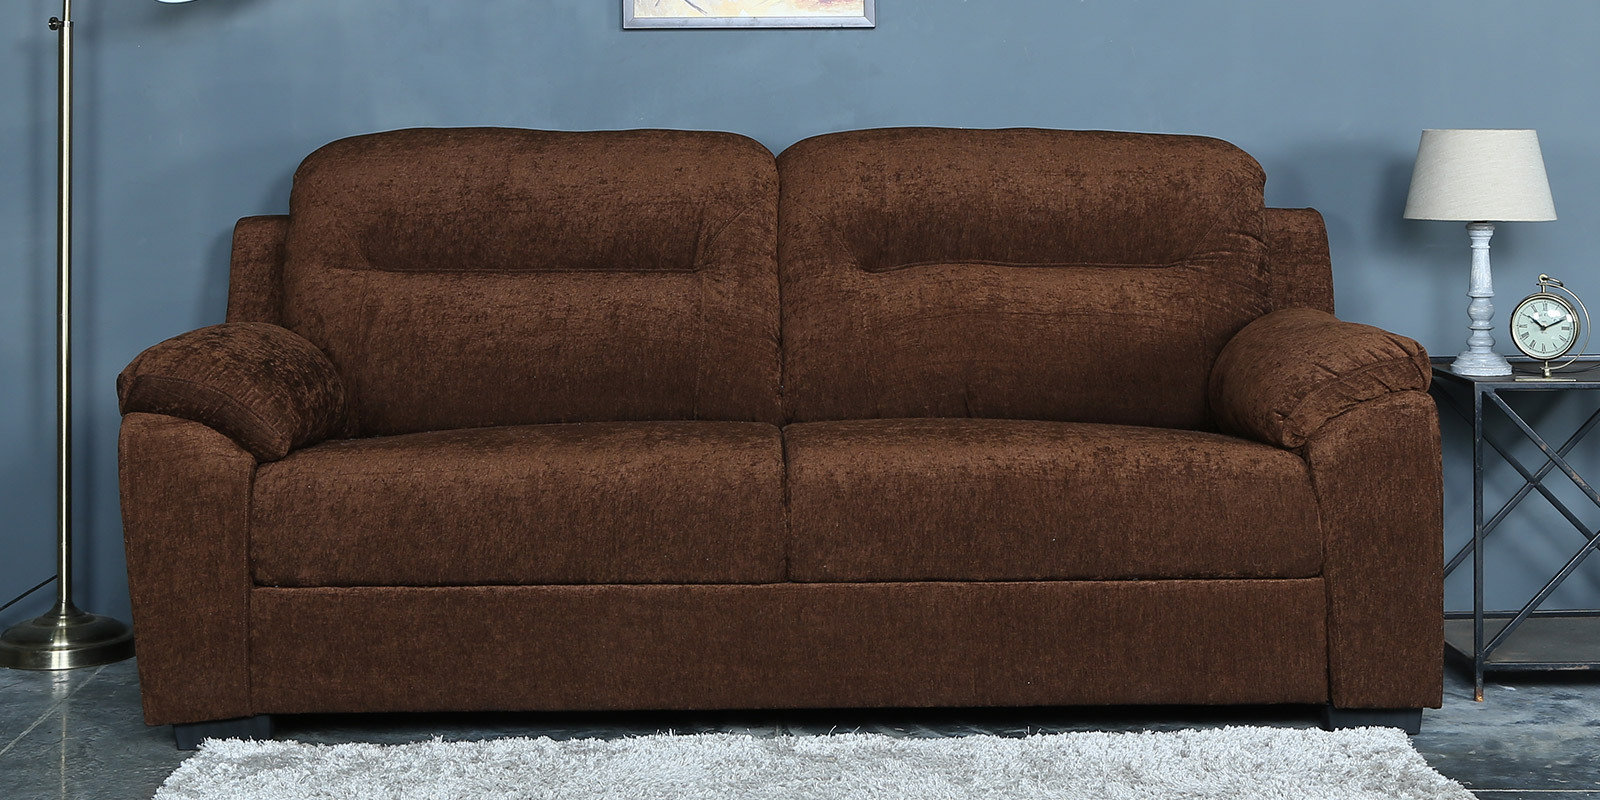Poland Three Seater Sofa in Chocolate Brown Colour by Furniture Mind: (116, 128, 1449, 752)
